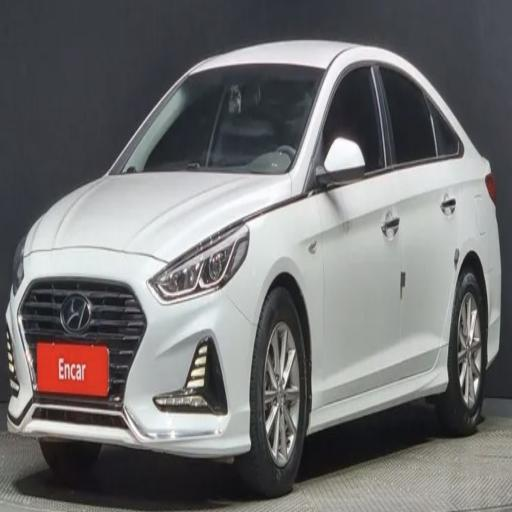normal: (4, 17, 505, 482)
